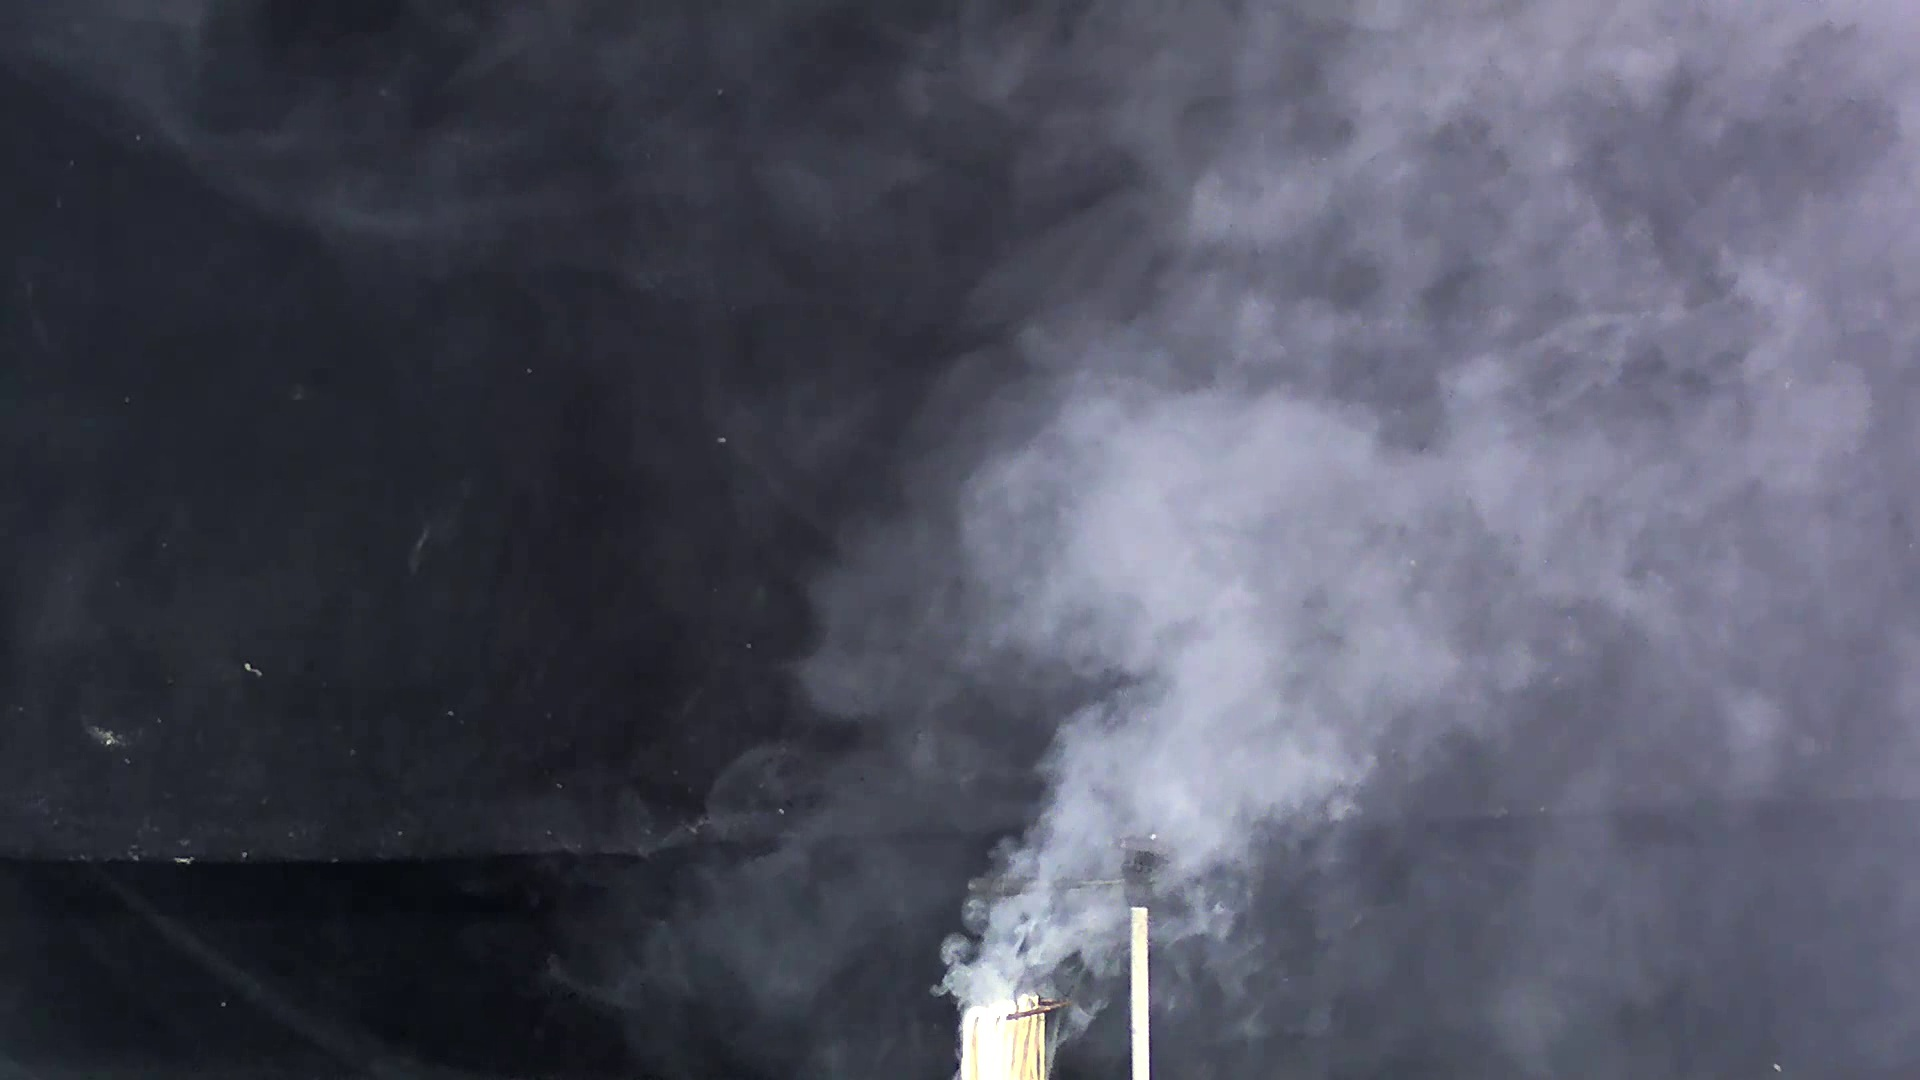smoke: (725, 203, 1800, 1011)
